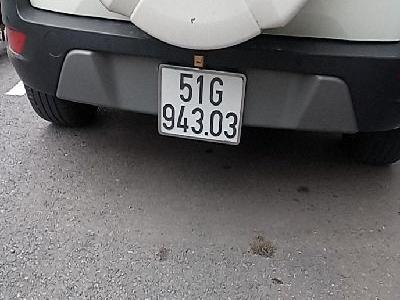lisence: (156, 62, 247, 147)
